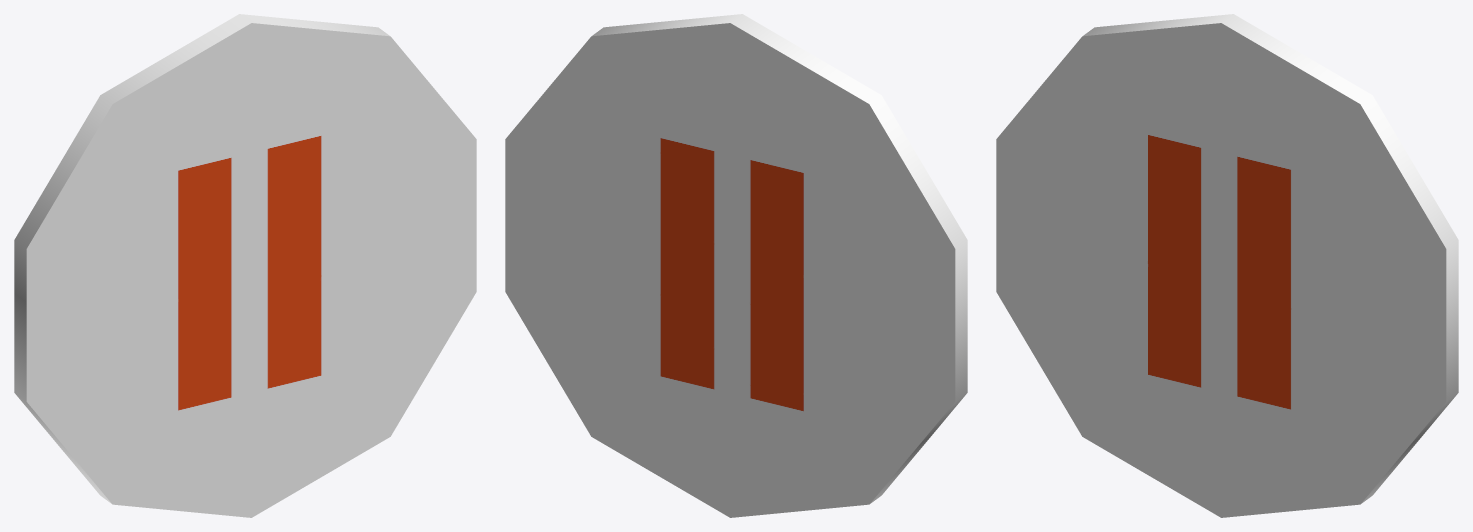
File: pause.FBX
The picture shows the model from 3 angles, left to right: view 1: azimuth 30°, elevation 25°; view 2: azimuth 150°, elevation 25°; view 3: azimuth 330°, elevation 25°; orthographic projection.
Visible parts, largest first — view 1: Cylinder01; view 2: Cylinder01; view 3: Cylinder01.
Boxes of the visible parts, left/top/right/bottom form: Cylinder01: left=14, top=14, right=476, bottom=517; Cylinder01: left=505, top=14, right=967, bottom=517; Cylinder01: left=996, top=14, right=1458, bottom=517.
Size of the model in its own units: 86.6 by 91.06 by 4.1.
Materials: 1 (1 with a texture image).
